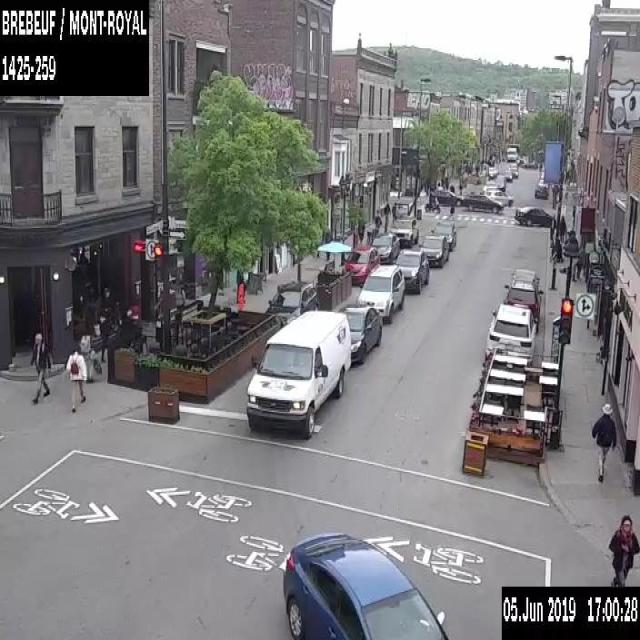construction: (236, 282, 244, 309)
pedestrian: (607, 513, 639, 584), (591, 401, 616, 483), (29, 332, 53, 405), (64, 341, 88, 412), (97, 303, 112, 364), (372, 209, 382, 239), (357, 213, 365, 247), (558, 212, 566, 243), (576, 244, 583, 276), (383, 202, 390, 223), (391, 201, 396, 224)
vehicle: (281, 530, 449, 638), (246, 310, 351, 438), (484, 305, 542, 361), (334, 306, 382, 364), (357, 262, 405, 320), (502, 264, 544, 318), (343, 247, 378, 287), (394, 249, 427, 290), (419, 234, 449, 266), (368, 232, 399, 262), (464, 192, 504, 214), (389, 217, 418, 247), (430, 220, 458, 248), (515, 204, 553, 224), (429, 188, 466, 205), (481, 187, 512, 205), (534, 182, 549, 199), (508, 166, 518, 177), (503, 170, 513, 180)
